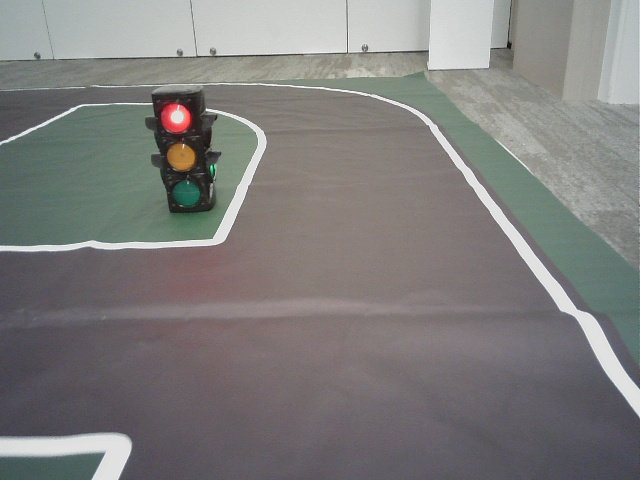red: (155, 98, 205, 205)
